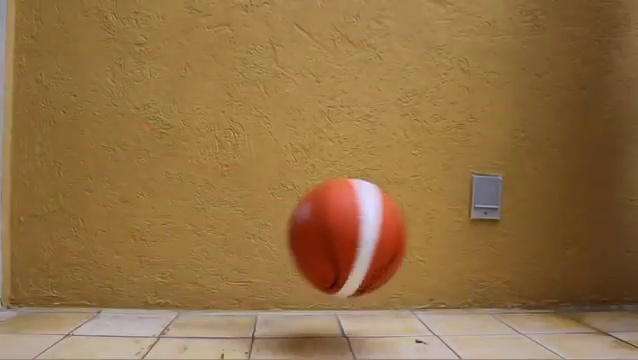ball: (287, 176, 406, 298)
